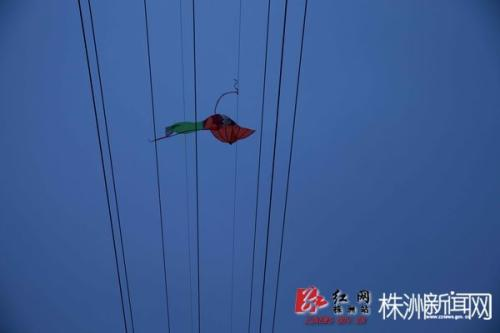kite: (144, 84, 261, 161)
